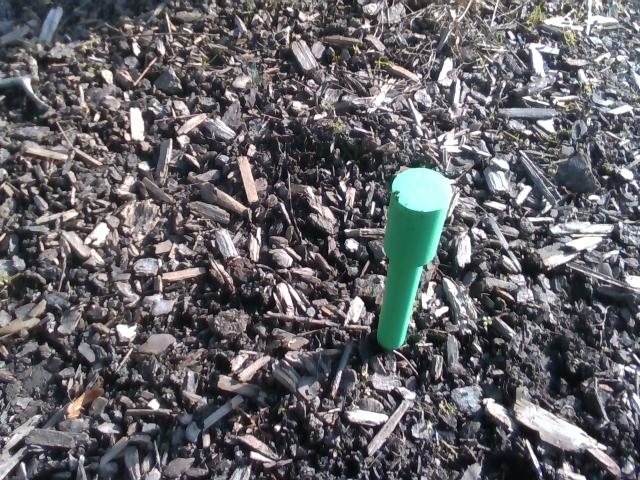Probe: (367, 160, 459, 363)
